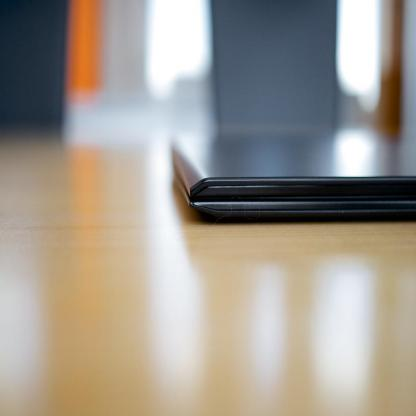board: (136, 102, 412, 234)
